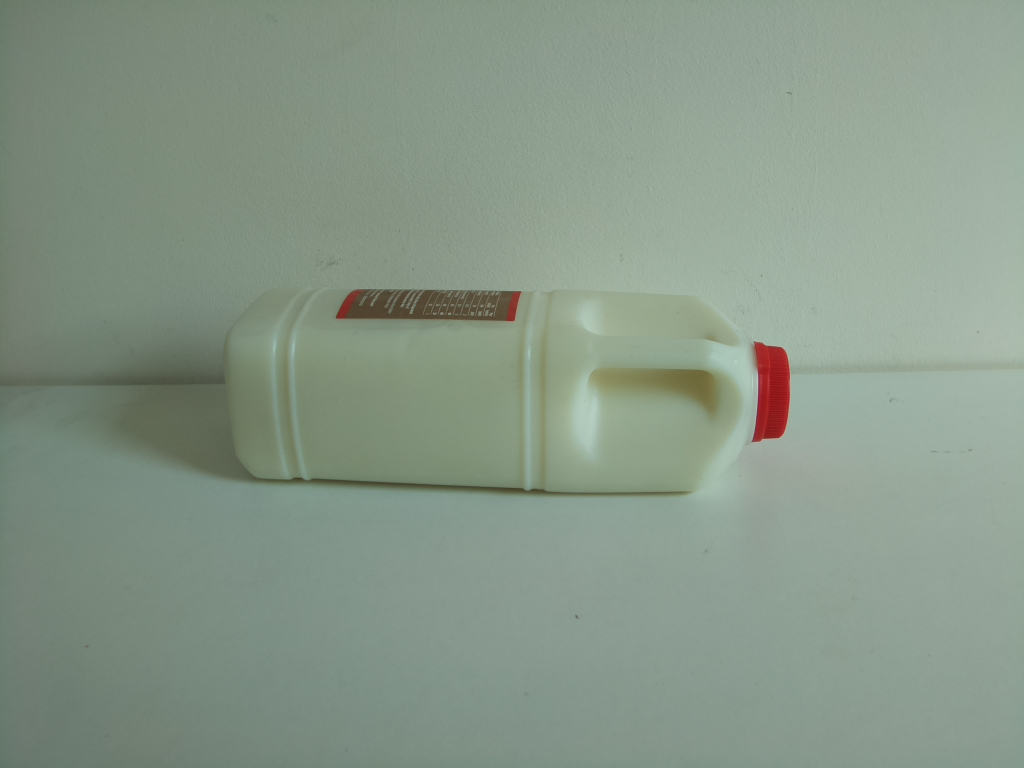milk: (222, 284, 803, 498)
